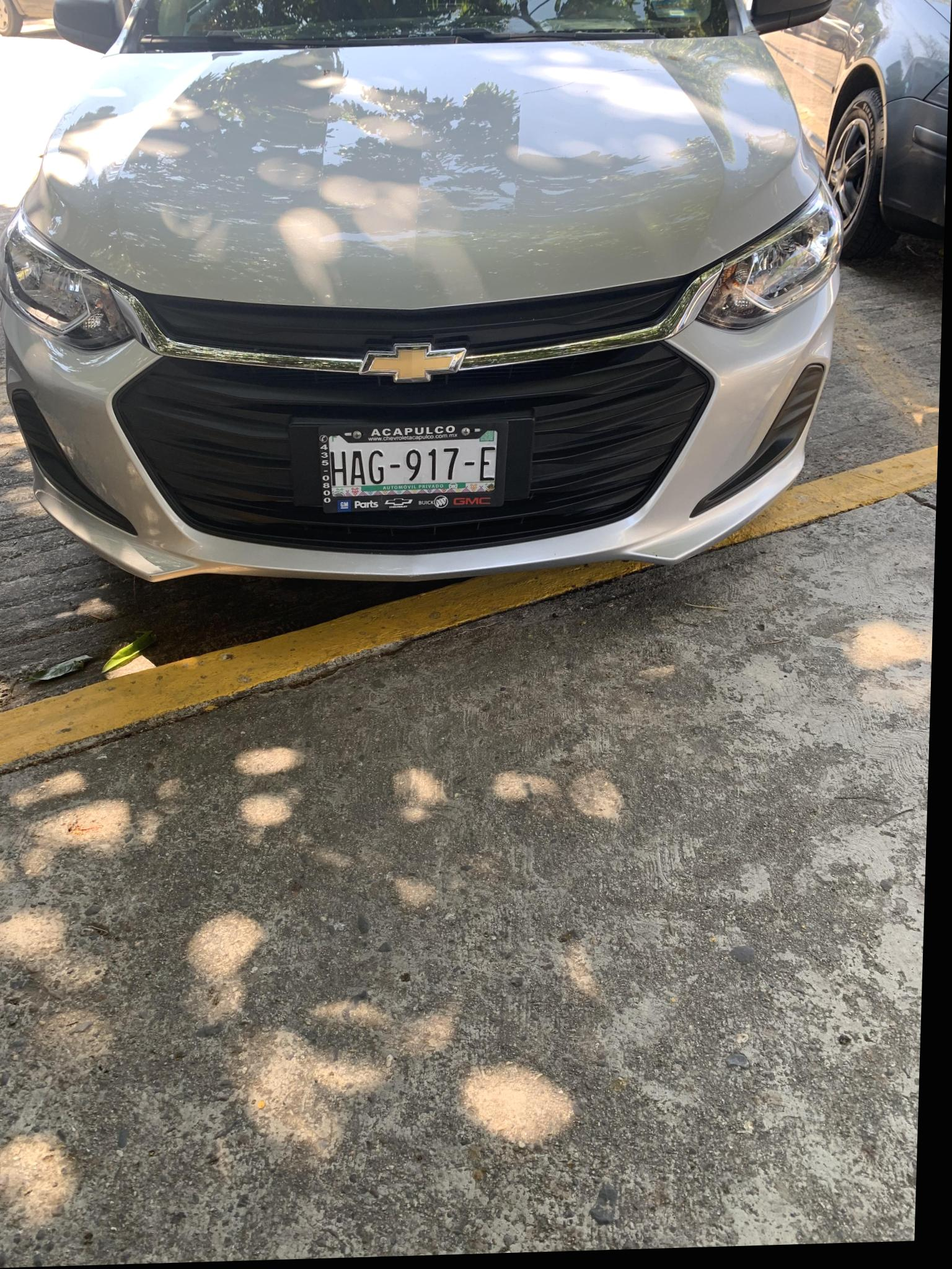License_Plate: (269, 403, 525, 539)
